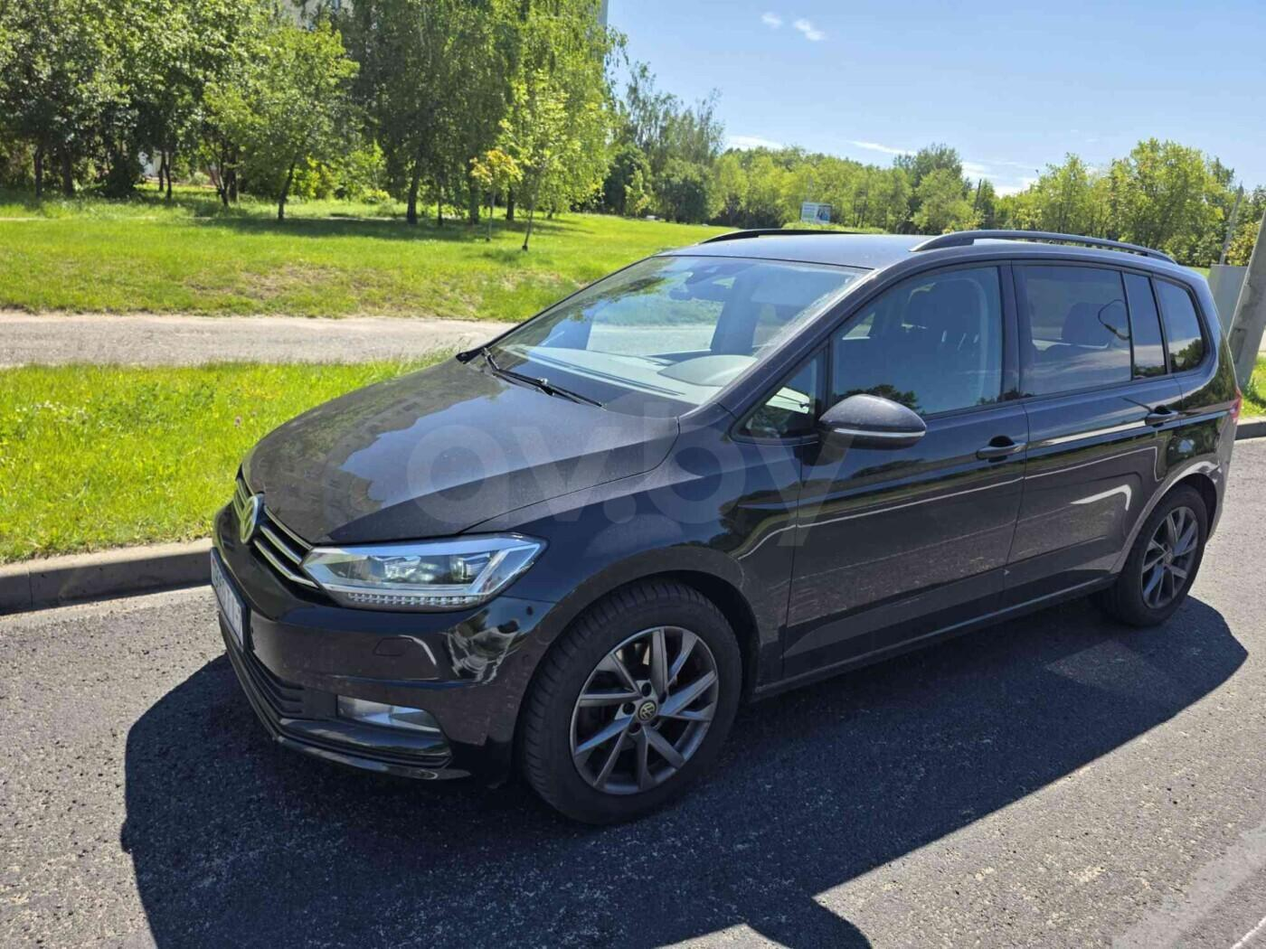Touran_2015: (200, 217, 1243, 825)
